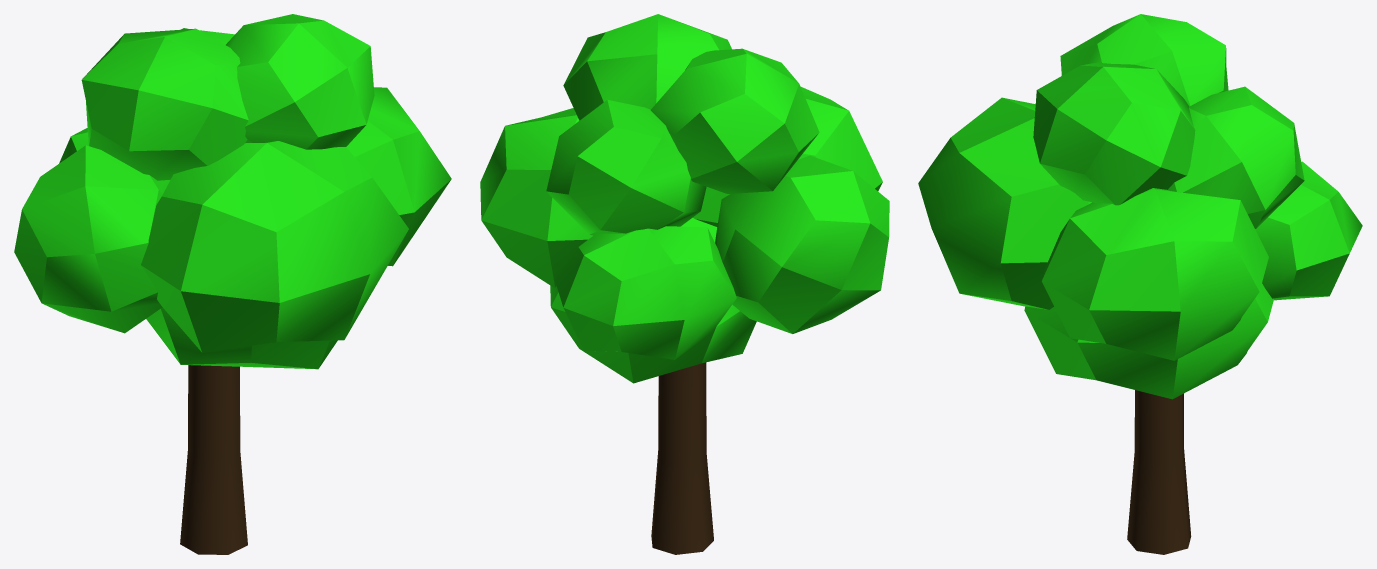
File: Tree_01.FBX
The picture shows the model from 3 angles, left to right: view 1: azimuth 30°, elevation 25°; view 2: azimuth 150°, elevation 25°; view 3: azimuth 270°, elevation 25°; orthographic projection. The views are drawn at different scales.
Parts seen in each view (by area): view 1: Object056; view 2: Object056; view 3: Object056.
Boxes of the visible parts, x1,y1,x2,y2 form: Object056: (14,14,451,554); Object056: (480,14,889,554); Object056: (918,14,1362,554).
Size of the model in its own units: 9.8 by 12.32 by 9.94.
